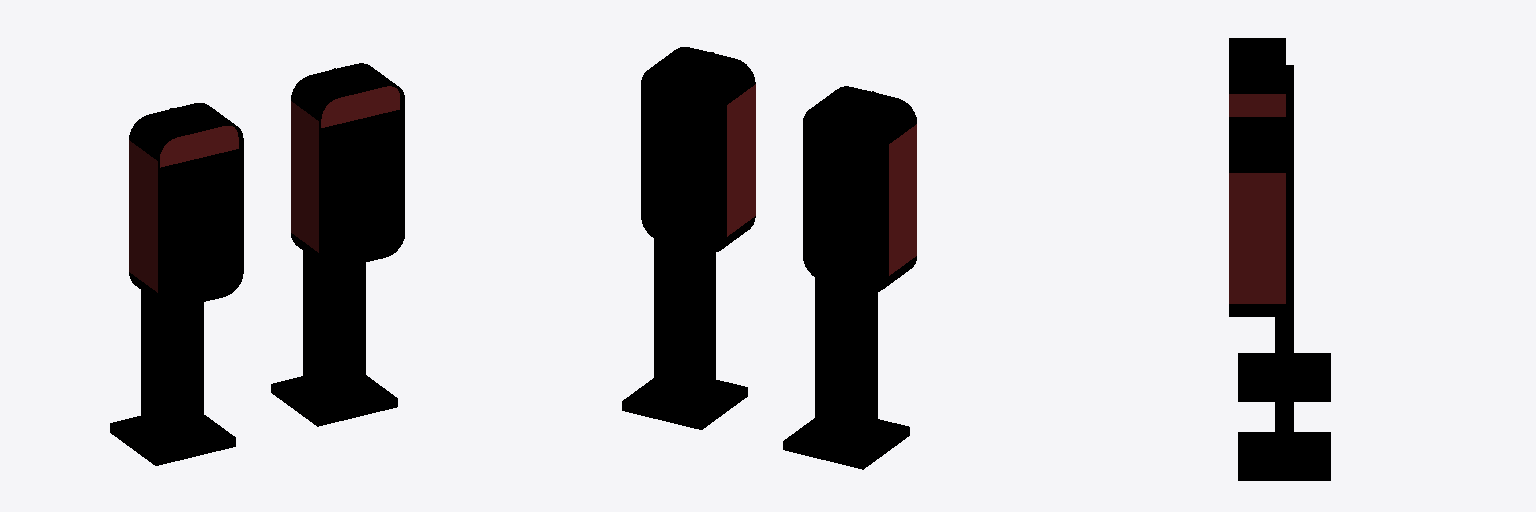
3 renders of one model, left to right at view 1: azimuth 30°, elevation 25°; view 2: azimuth 150°, elevation 25°; view 3: azimuth 270°, elevation 25°, orthographic.
Visible parts, largest first — view 1: Cabina:payphonegroup1, Cabina:payphone; view 2: Cabina:payphonegroup1, Cabina:payphone; view 3: Cabina:payphone, Cabina:payphonegroup1.
Boxes of the visible parts, x1=… form: Cabina:payphonegroup1: x1=110, y1=103, x2=243, y2=465; Cabina:payphone: x1=271, y1=63, x2=404, y2=426; Cabina:payphonegroup1: x1=783, y1=86, x2=916, y2=469; Cabina:payphone: x1=622, y1=47, x2=755, y2=429; Cabina:payphone: x1=1229, y1=117, x2=1330, y2=480; Cabina:payphonegroup1: x1=1229, y1=38, x2=1330, y2=401.
Bounding box in the file's own units: 2.55 × 3.25 × 0.907.
4 materials, 1 textured.